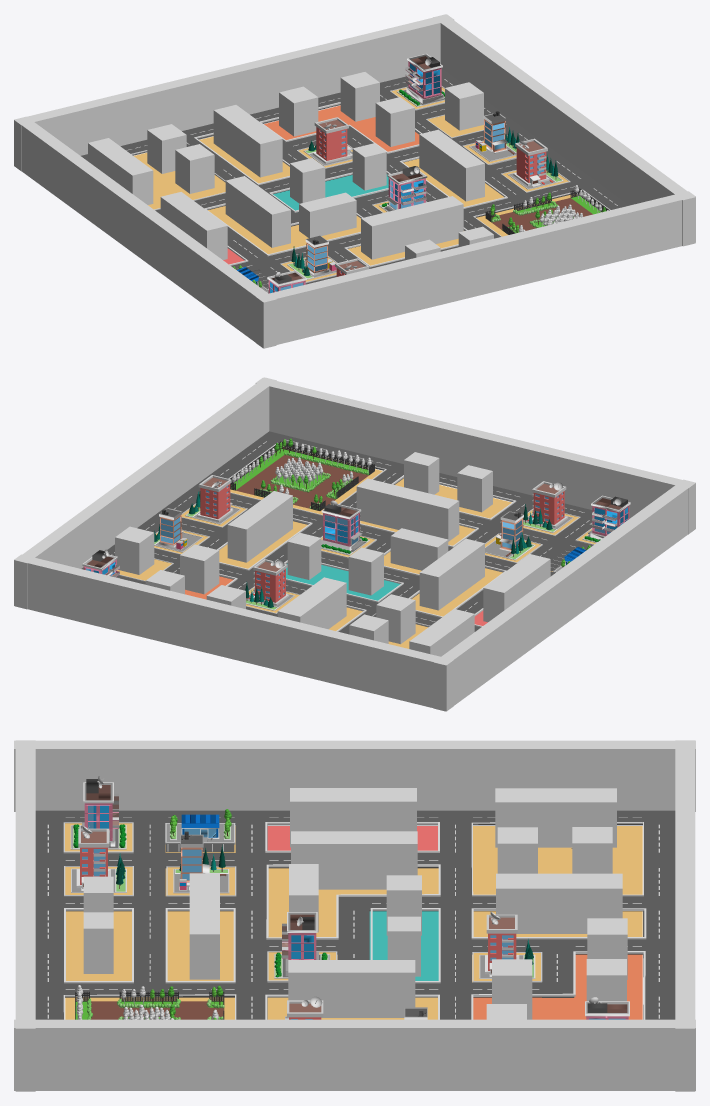
The model's file is test city.fbx.
3 views of the same model, one above another, from view 1: azimuth 30°, elevation 25°; view 2: azimuth 150°, elevation 25°; view 3: azimuth 270°, elevation 25° (orthographic). The views are drawn at different scales.
Visible parts, largest first — view 1: Cube_18, Cube_17, Cube_19, Cube_20, Асфальт, Plane, Cube_7, Cube_2, Cube_4, Cube, Cube_3, Cube_10 (+21 smaller); view 2: Cube_17, Cube_18, Cube_19, Cube_20, Асфальт, Plane, Cube_7, Cube_4, Cube, Земля, Cube_3, Cube_2 (+22 smaller); view 3: Cube_20, Асфальт, Cube_19, Plane, Cube_18, Cube_17, Cube_2, Cube_4, Cube, Cube_10, Cube_3, Cube_7 (+31 smaller).
Part boxes in pixels (left/top/right/bottom): Cube_18: left=255, top=191, right=695, bottom=347; Cube_17: left=14, top=14, right=453, bottom=171; Cube_19: left=14, top=116, right=276, bottom=348; Cube_20: left=433, top=14, right=695, bottom=246; Асфальт: left=81, top=69, right=628, bottom=293; Plane: left=134, top=105, right=576, bottom=265; Cube_7: left=361, top=196, right=463, bottom=259; Cube_2: left=213, top=105, right=282, bottom=177; Cube_4: left=419, top=129, right=484, bottom=201; Cube: left=225, top=176, right=290, bottom=247; Cube_3: left=160, top=192, right=227, bottom=259; Cube_10: left=88, top=138, right=153, bottom=204; Cube_17: left=14, top=554, right=453, bottom=711; Cube_18: left=255, top=377, right=695, bottom=534; Cube_19: left=433, top=479, right=695, bottom=711; Cube_20: left=14, top=377, right=276, bottom=609; Асфальт: left=81, top=431, right=592, bottom=634; Plane: left=185, top=448, right=552, bottom=648; Cube_7: left=356, top=478, right=459, bottom=541; Cube_4: left=227, top=491, right=292, bottom=562; Cube: left=419, top=538, right=484, bottom=610; Земля: left=231, top=449, right=368, bottom=509; Cube_3: left=483, top=554, right=550, bottom=622; Cube_2: left=277, top=577, right=346, bottom=629; Cube_20: left=14, top=1019, right=695, bottom=1090; Асфальт: left=35, top=810, right=675, bottom=1019; Cube_19: left=14, top=740, right=695, bottom=811; Plane: left=65, top=826, right=642, bottom=1019; Cube_18: left=15, top=740, right=35, bottom=1091; Cube_17: left=675, top=740, right=695, bottom=1091; Cube_2: left=496, top=873, right=622, bottom=933; Cube_4: left=288, top=960, right=415, bottom=1017; Cube: left=291, top=831, right=417, bottom=889; Cube_10: left=495, top=788, right=616, bottom=847; Cube_3: left=290, top=788, right=416, bottom=847; Cube_7: left=189, top=873, right=219, bottom=979.
Size of the model in its own units: 6679 by 707 by 6679.
1 material, 1 textured.
